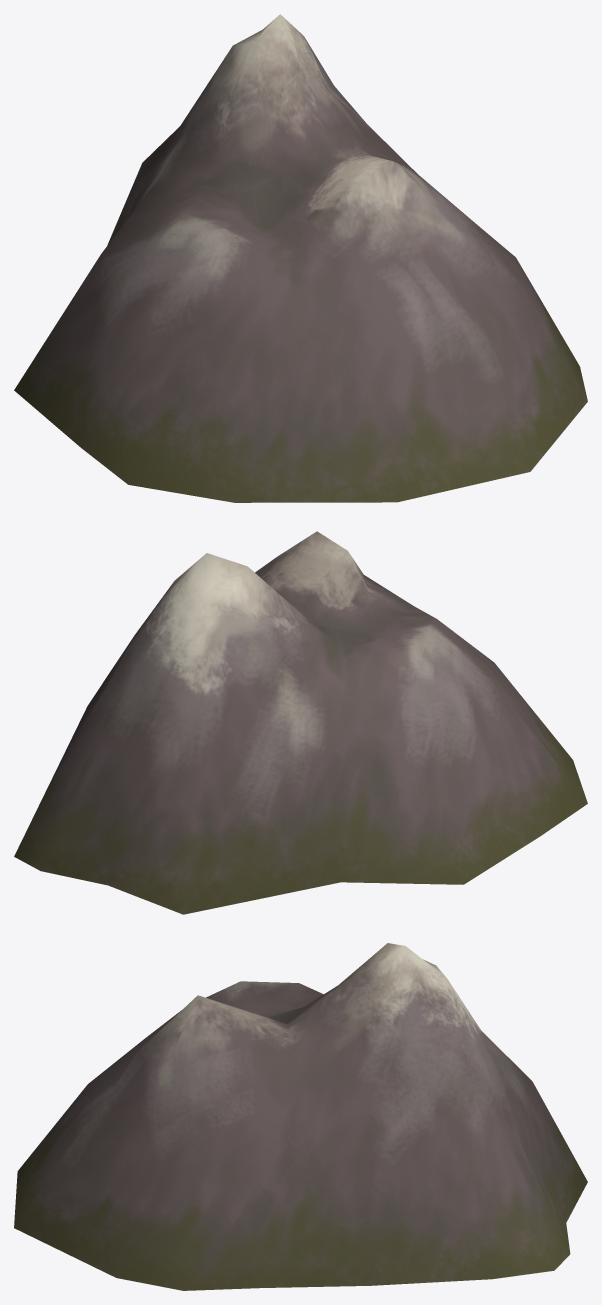
File: montain.fbx
The picture shows the model from 3 angles, top to bottom: view 1: azimuth 30°, elevation 25°; view 2: azimuth 150°, elevation 25°; view 3: azimuth 270°, elevation 25°; orthographic projection. The views are drawn at different scales.
Visible parts, largest first — view 1: Mountain_SM; view 2: Mountain_SM; view 3: Mountain_SM.
Boxes of the visible parts, x1,y1,x2,y2 form: Mountain_SM: (14, 14, 587, 502); Mountain_SM: (14, 531, 587, 914); Mountain_SM: (14, 943, 587, 1290).
Bounding box in the file's own units: 7110 × 4483 × 8657.
